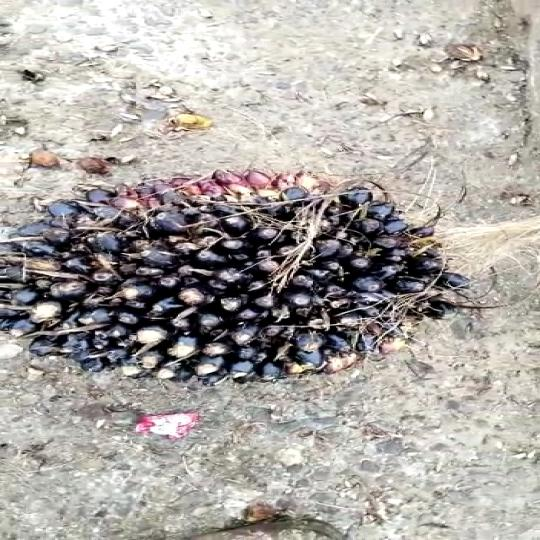mentah: (0, 133, 493, 398)
